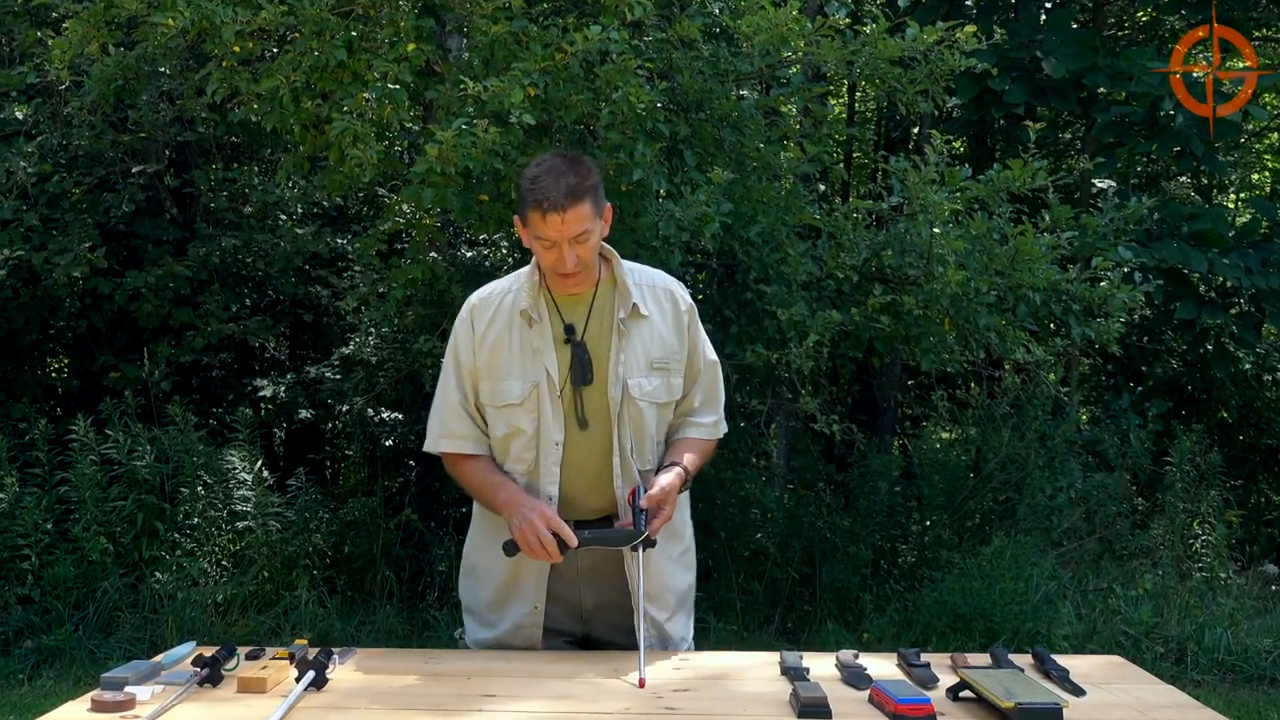knife: (495, 522, 651, 566)
